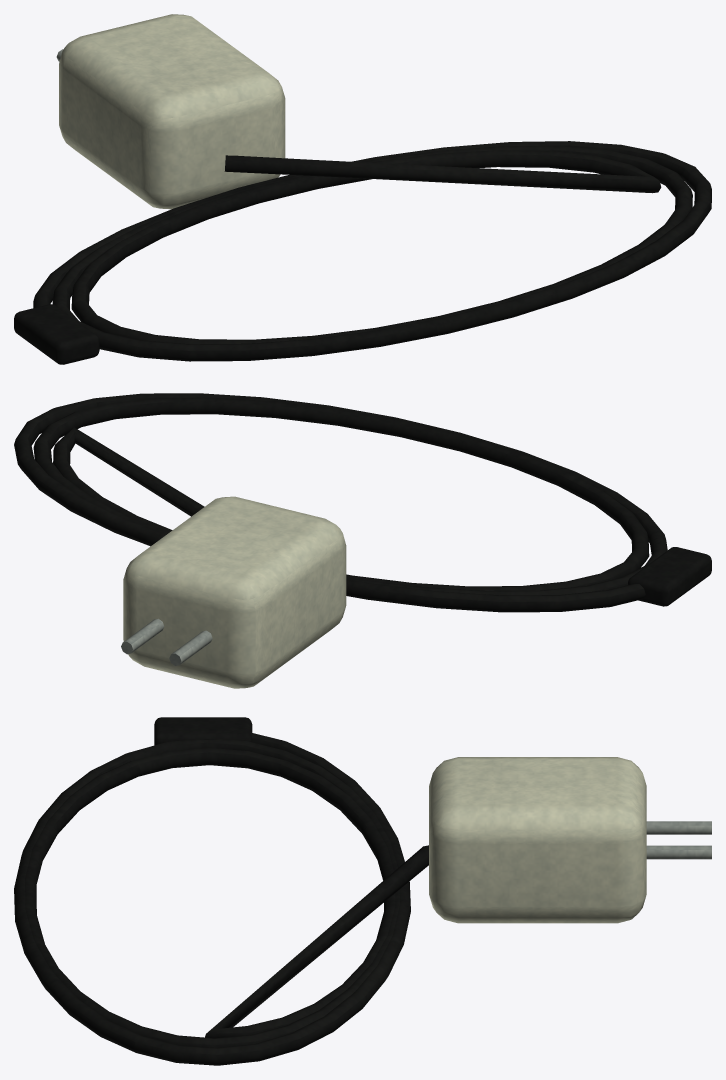
File: Charger.fbx
3 renders of one model, top to bottom at view 1: azimuth 30°, elevation 25°; view 2: azimuth 150°, elevation 25°; view 3: azimuth 270°, elevation 25°, orthographic. The views are drawn at different scales.
Parts seen in each view (by area): view 1: Charger_Rubber, Charger_Enamel; view 2: Charger_Rubber, Charger_Enamel, Charger_Chrome; view 3: Charger_Rubber, Charger_Enamel, Charger_Chrome.
Boxes of the visible parts, <box> form: Charger_Rubber: <box>14,141,711,364</box>; Charger_Enamel: <box>59,14,285,209</box>; Charger_Rubber: <box>14,393,711,612</box>; Charger_Enamel: <box>123,496,346,688</box>; Charger_Chrome: <box>121,618,212,665</box>; Charger_Rubber: <box>14,717,428,1065</box>; Charger_Enamel: <box>429,757,646,923</box>; Charger_Chrome: <box>646,821,711,859</box>.
Size of the model in its own units: 21.81 by 3.5 by 19.24.
